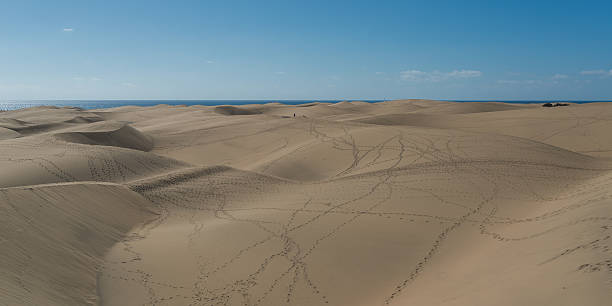human_foot_print: (186, 182, 401, 300), (385, 195, 504, 303), (85, 159, 254, 216), (342, 138, 494, 175)
